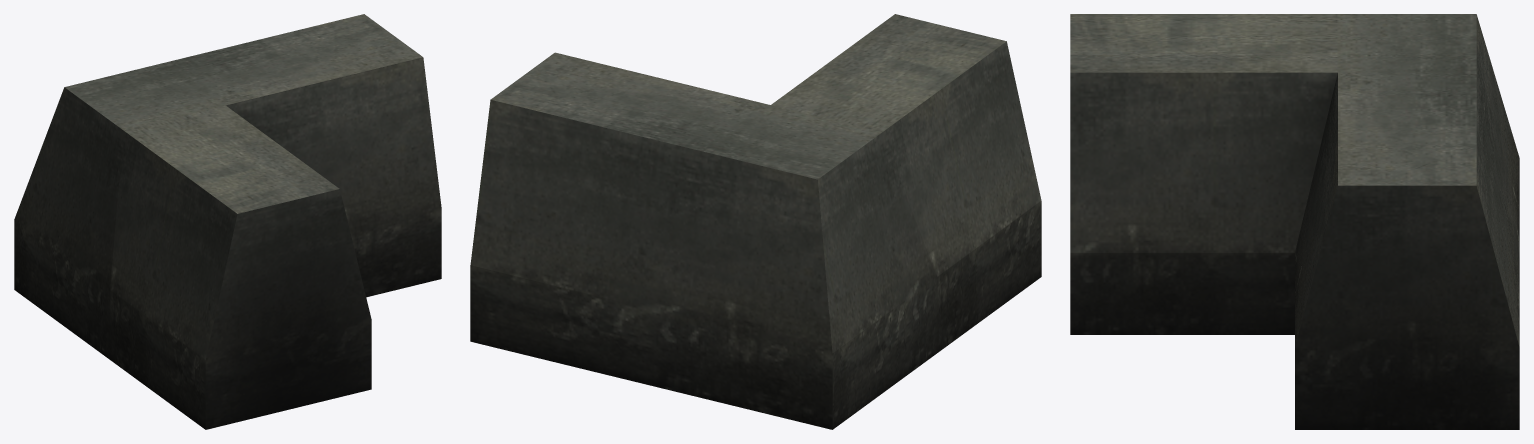
Rendered from wall_corner.obj.
3 views of the same model, side by side, from view 1: azimuth 30°, elevation 25°; view 2: azimuth 150°, elevation 25°; view 3: azimuth 270°, elevation 25° (orthographic). The views are drawn at different scales.
Visible parts, largest first — view 1: Box03; view 2: Box03; view 3: Box03.
Boxes of the visible parts, bbox=[...] form: Box03: bbox=[14, 14, 441, 429]; Box03: bbox=[470, 14, 1041, 429]; Box03: bbox=[1070, 14, 1519, 429].
Size of the model in its own units: 9.84 by 5.91 by 9.84.
1 material, 1 textured.
